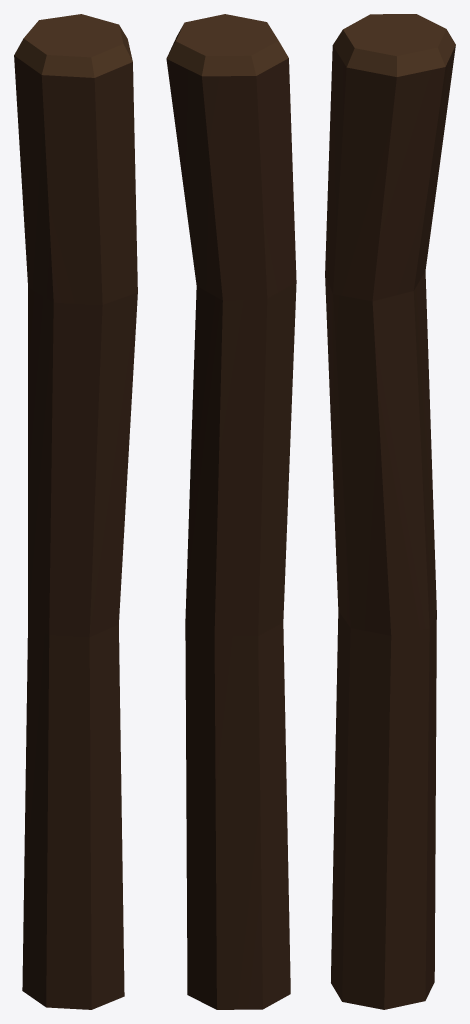
Rendered from Cave_Lair_Wooden_Timber_Pole_01.fbx.
3 views of the same model, side by side, from view 1: azimuth 90°, elevation 25°; view 2: azimuth 150°, elevation 25°; view 3: azimuth 330°, elevation 25° (orthographic).
Parts seen in each view (by area): view 1: Cave_Lair_Wooden_Timber_Pole_01; view 2: Cave_Lair_Wooden_Timber_Pole_01; view 3: Cave_Lair_Wooden_Timber_Pole_01.
Part boxes in pixels (x1,y1,x2,y2): Cave_Lair_Wooden_Timber_Pole_01: [14, 14, 137, 1009]; Cave_Lair_Wooden_Timber_Pole_01: [166, 14, 296, 1009]; Cave_Lair_Wooden_Timber_Pole_01: [325, 14, 455, 1009].
Bounding box in the file's own units: 0.2296 × 1.9 × 0.225.
